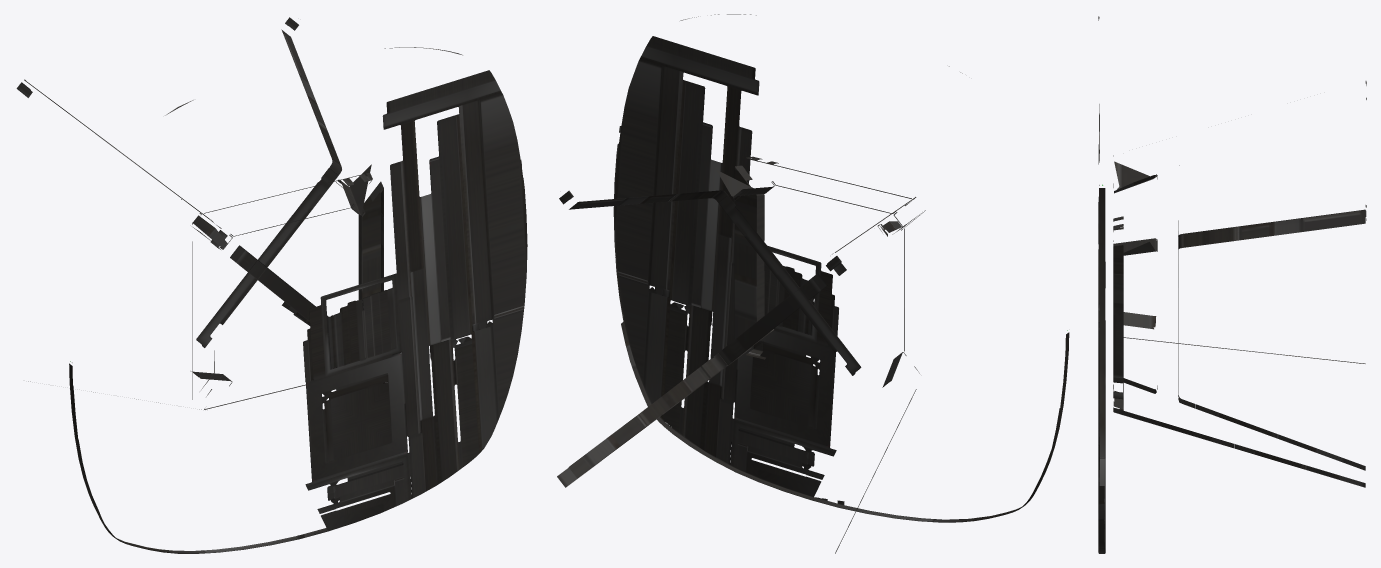
3 views of the same model, side by side, from view 1: azimuth 30°, elevation 25°; view 2: azimuth 150°, elevation 25°; view 3: azimuth 270°, elevation 25° (orthographic). The views are drawn at different scales.
Size of the model in its own units: 0.6823 by 0.6823 by 0.3685.
